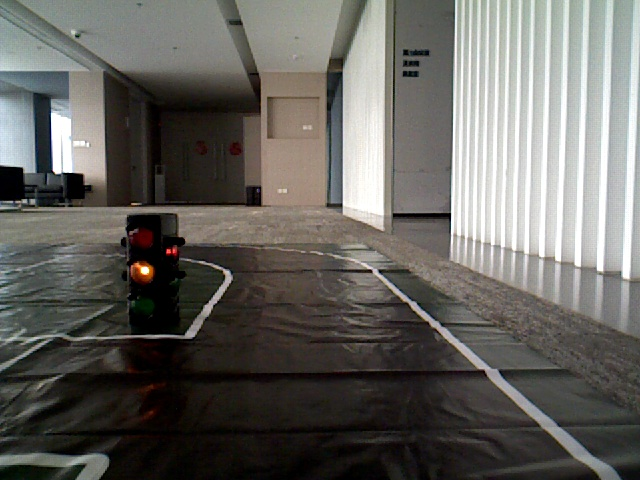yellow: (123, 218, 166, 322)
